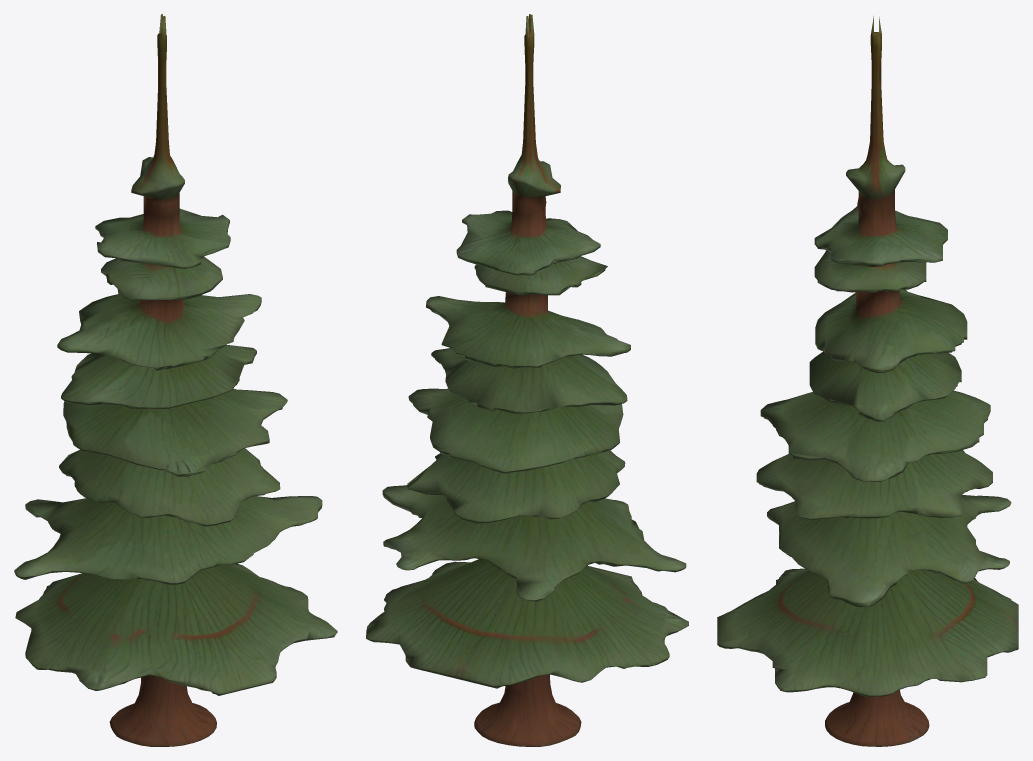
The model's file is a_pine_tree_3555a46f_v3.glb.
3 renders of one model, left to right at view 1: azimuth 30°, elevation 25°; view 2: azimuth 150°, elevation 25°; view 3: azimuth 270°, elevation 25°, orthographic.
Visible parts, largest first — view 1: material; view 2: material; view 3: material.
Part boxes in pixels (x1,y1,x2,y2): material: (14,14,337,746); material: (366,14,688,746); material: (717,16,1018,746).
Size of the model in its own units: 0.8436 by 1.9 by 0.7323.
1 material, 1 textured.
